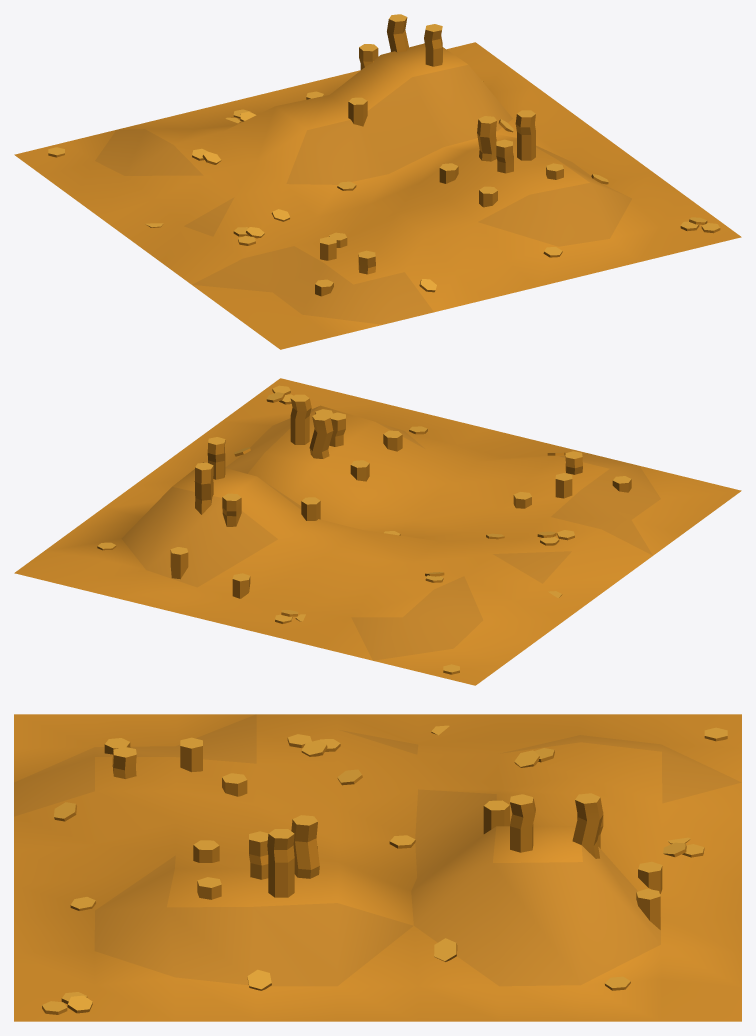
File: ST_Env_Gold_Flat_05.fbx
3 renders of one model, top to bottom at view 1: azimuth 30°, elevation 25°; view 2: azimuth 150°, elevation 25°; view 3: azimuth 270°, elevation 25°, orthographic. The views are drawn at different scales.
Parts seen in each view (by area): view 1: ST_Env_Gold_Flat_05; view 2: ST_Env_Gold_Flat_05; view 3: ST_Env_Gold_Flat_05.
Boxes of the visible parts, bbox=[...] form: ST_Env_Gold_Flat_05: bbox=[14, 14, 741, 349]; ST_Env_Gold_Flat_05: bbox=[14, 378, 741, 685]; ST_Env_Gold_Flat_05: bbox=[14, 714, 741, 1021].
Size of the model in its own units: 5 by 1.07 by 5.
